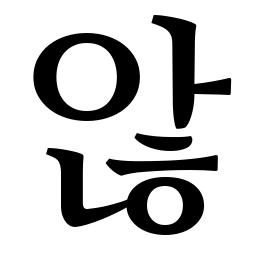Gaji: (162, 66, 211, 110)
